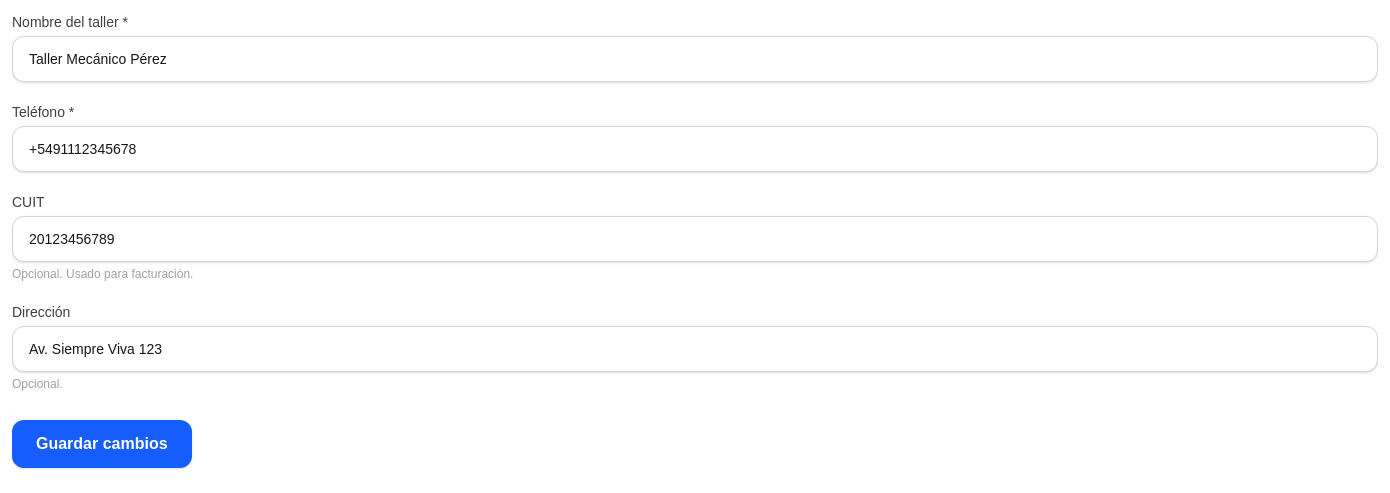
Test case: WorkshopForm › validation › shows CUIT error when CUIT has wrong digit count
The width and height of the screenshot is (1390, 493).
Replace the text in the field labelled "CUIT" with "12345" at point(695, 239), box [12, 216, 1378, 262]
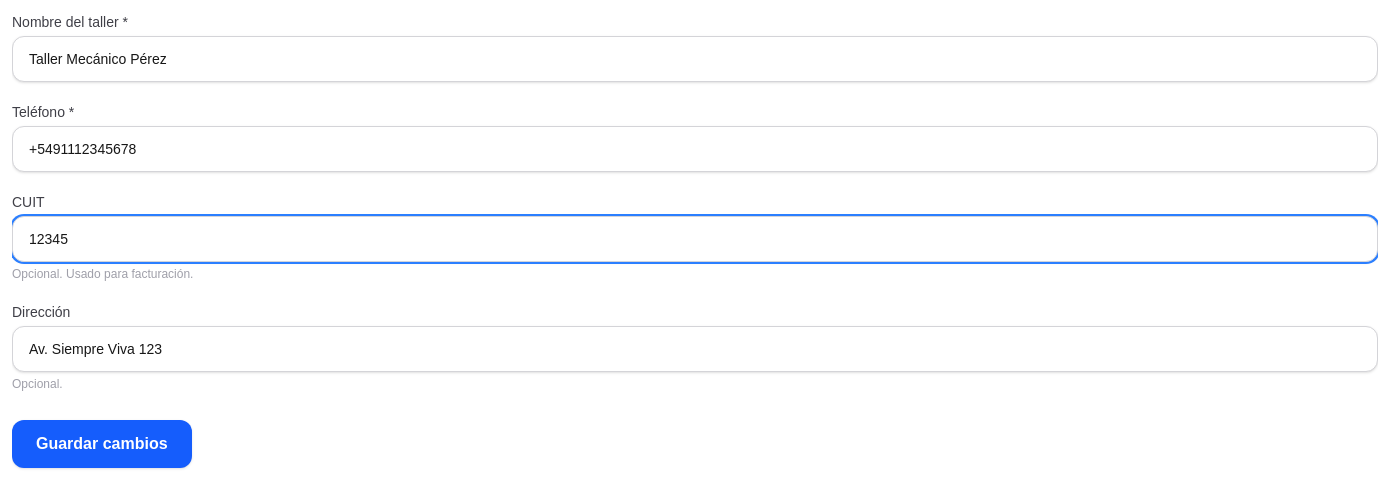
Click the button "Guardar cambios".
click(102, 444)  # box [12, 420, 192, 468]
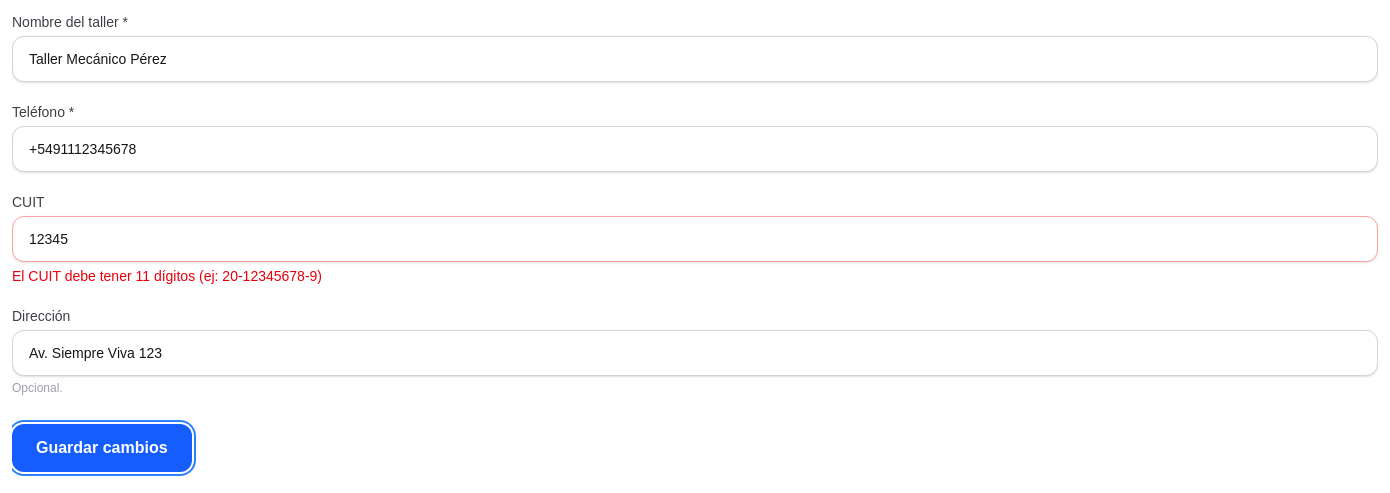
Expected: the text "El CUIT debe tener 11 dígitos (ej: 20-12345678-9)" is shown, [12, 268, 322, 284]
